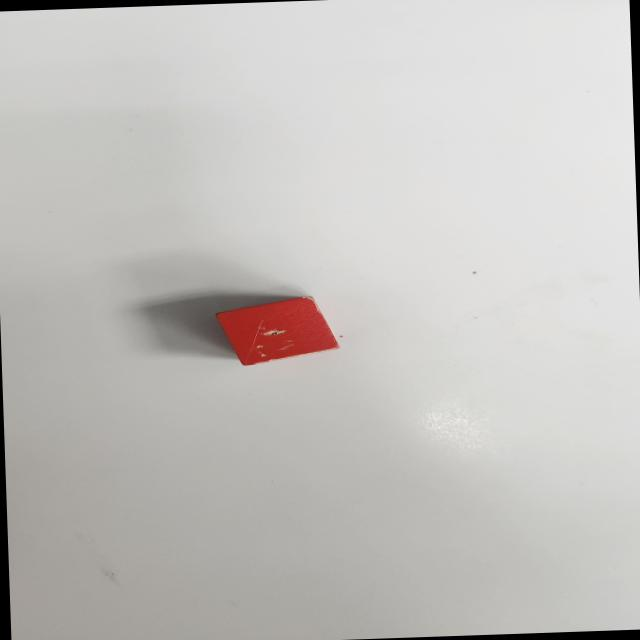broken: (214, 295, 338, 367)
